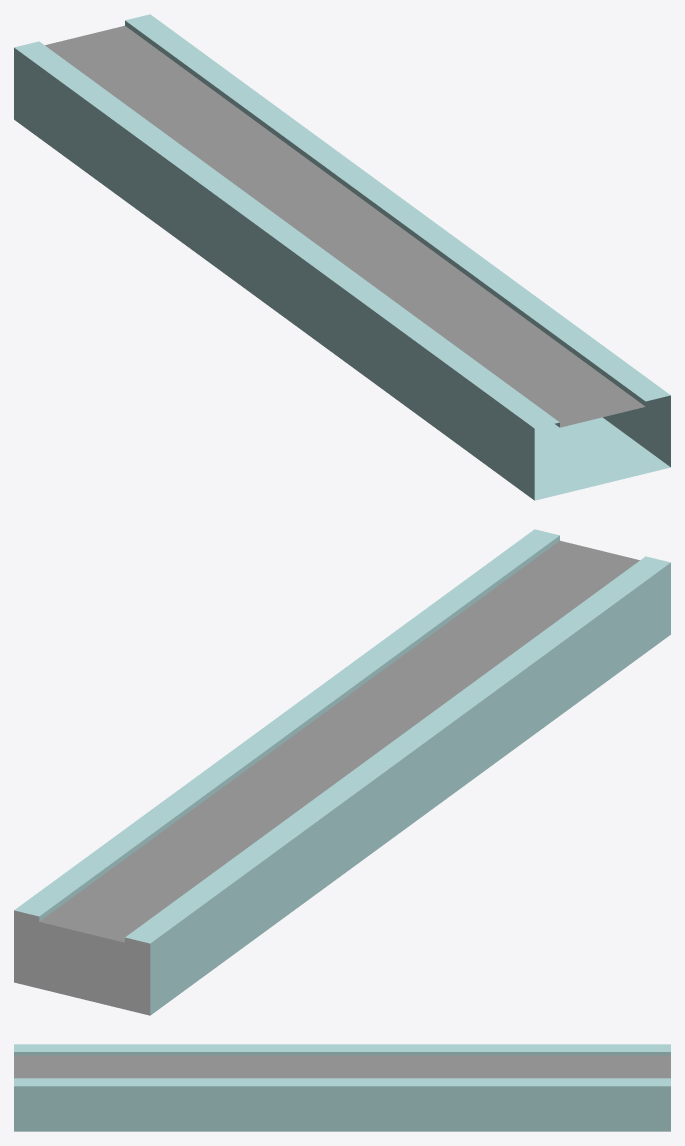
File: starting.fbx
The picture shows the model from 3 angles, top to bottom: view 1: azimuth 30°, elevation 25°; view 2: azimuth 150°, elevation 25°; view 3: azimuth 270°, elevation 25°; orthographic projection. The views are drawn at different scales.
Visible parts, largest first — view 1: starting; view 2: starting; view 3: starting.
Part boxes in pixels (x1=…): starting: x1=14, y1=14, x2=670, y2=500; starting: x1=14, y1=529, x2=670, y2=1015; starting: x1=14, y1=1044, x2=670, y2=1131.
Bounding box in the file's own units: 203 × 103 × 1345.
